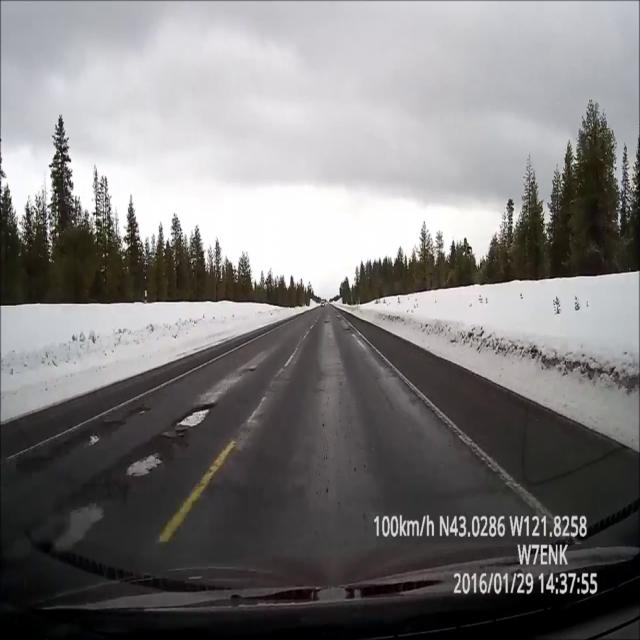Pothole: (46, 497, 108, 568), (124, 446, 167, 481), (174, 402, 217, 431), (241, 367, 256, 372), (336, 314, 342, 320), (342, 328, 350, 332), (324, 320, 330, 323)
